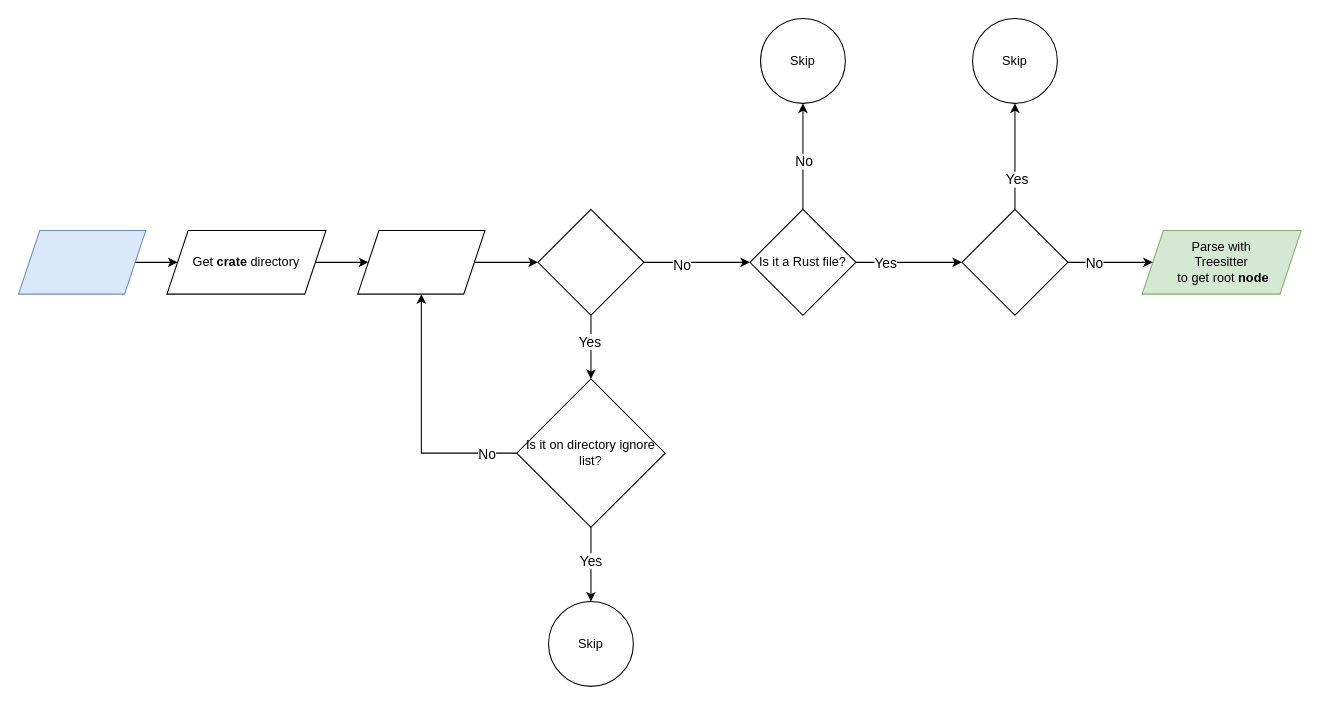
The diagram is 1320 pixels wide and 705 high, and some of its shapes have lost their labels. The box of each missing label's shape, as (x1, y1, x2, y2) in pixels:
For each crate: (17, 229, 146, 294)
For each directory child: (357, 229, 485, 294)
Is it a directory?: (537, 208, 644, 315)
Is it on file ignore list?: (961, 208, 1068, 315)
